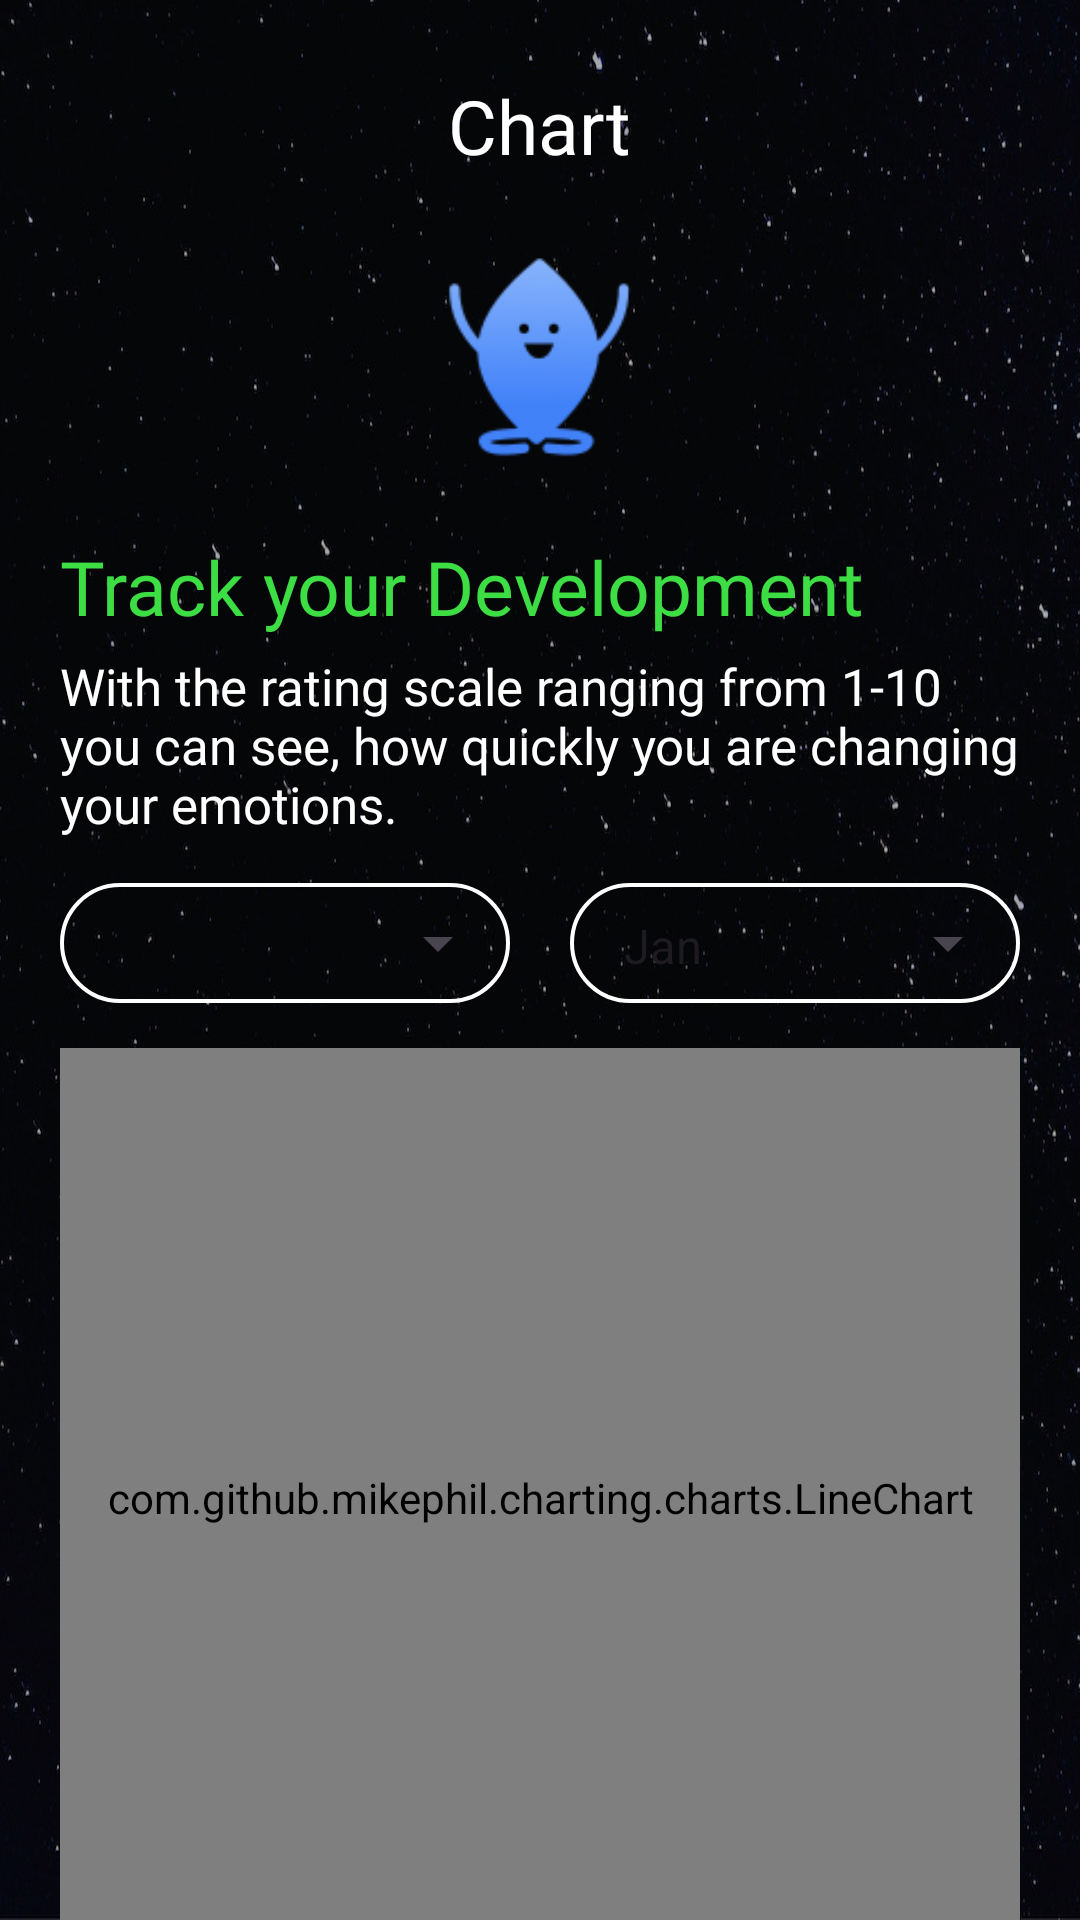

Where to tap for icons on this 1080 x 1920 app screen, as [x,y]:
leaf: [543,353]
